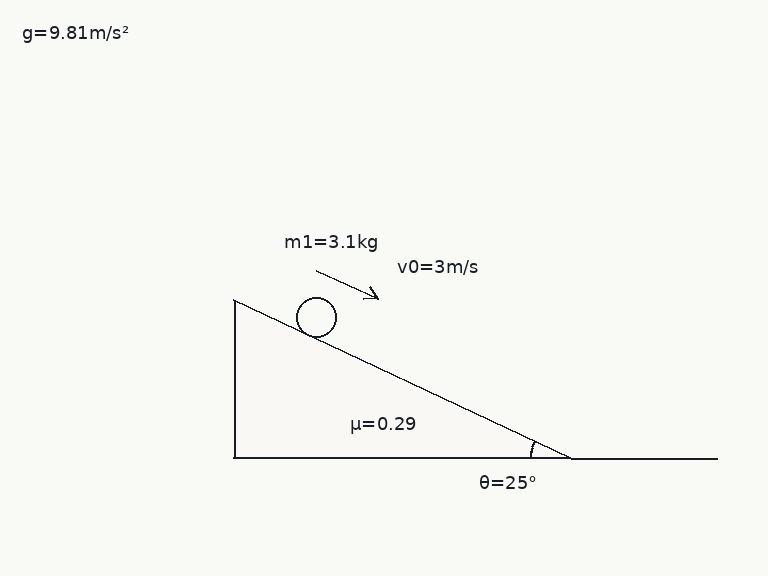ball: (294, 295, 338, 339)
ramp: (231, 298, 573, 460)
